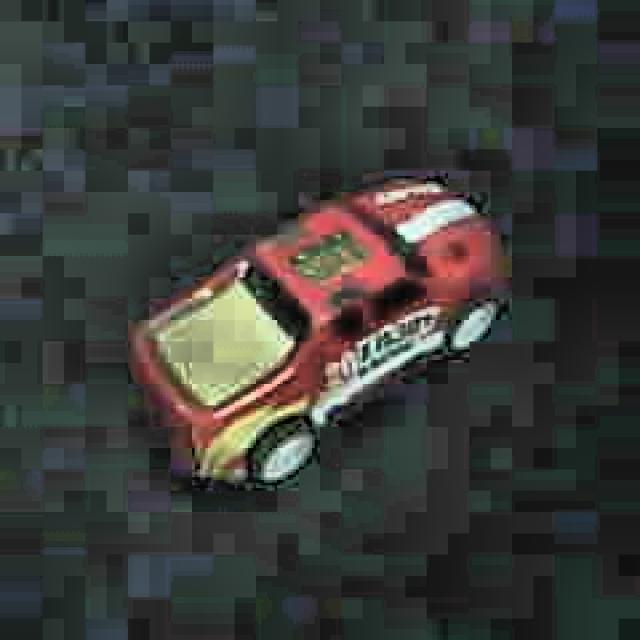car: (121, 170, 504, 498)
